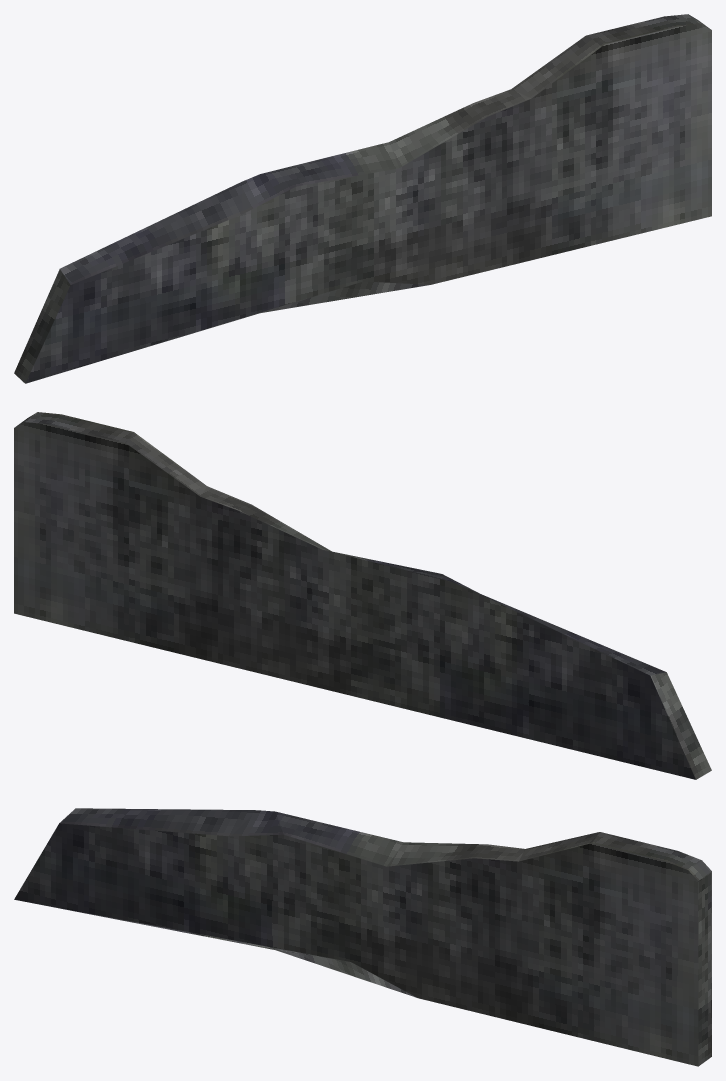
File: lf_plackard_slab_broken_b.glb
3 views of the same model, one above another, from view 1: azimuth 30°, elevation 25°; view 2: azimuth 150°, elevation 25°; view 3: azimuth 330°, elevation 25° (orthographic).
Visible parts, largest first — view 1: plackard_slab_broken_alt; view 2: plackard_slab_broken_alt; view 3: plackard_slab_broken_alt.
Part boxes in pixels (box(x1,y1,x2,y2)): plackard_slab_broken_alt: box(14, 14, 711, 383); plackard_slab_broken_alt: box(14, 412, 711, 779); plackard_slab_broken_alt: box(14, 808, 711, 1066).
Bounding box in the file's own units: 2.9 × 0.8002 × 0.0999.
Materials: 1 (1 with a texture image).
